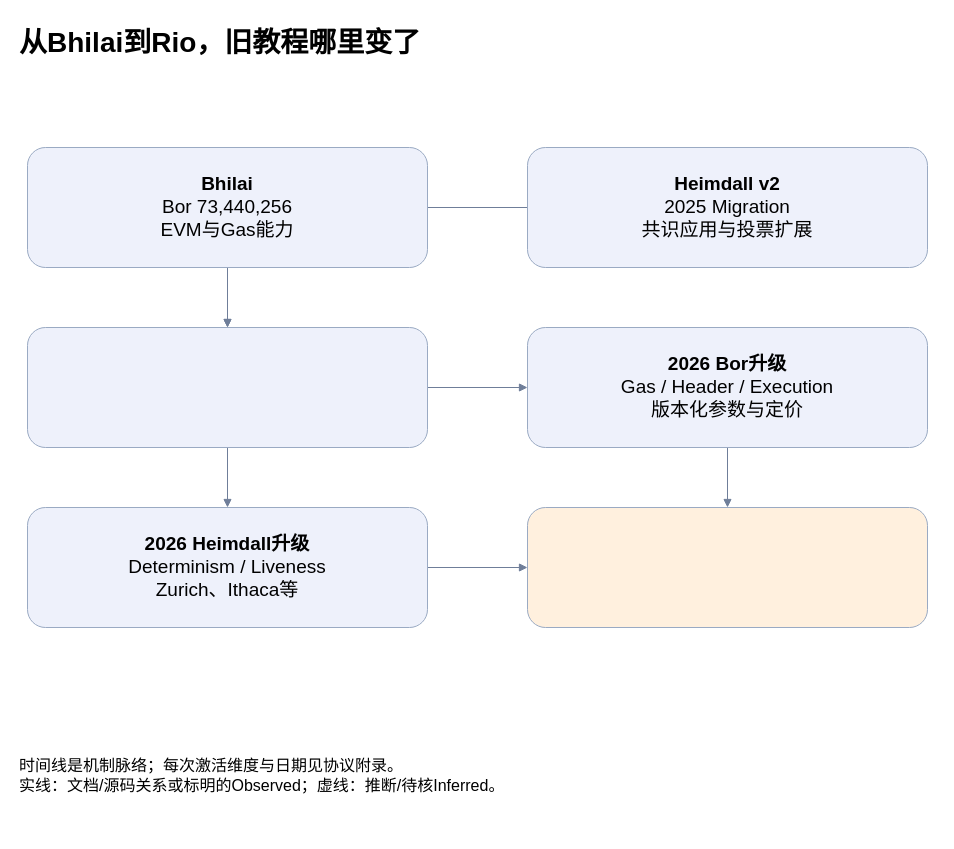
This 954x849 diagram has some shape labels left out. The box of each missing label's shape, as (x1, y1, x2, y2) in pixels:
Rio Bor 77,414,656 VEBloP生产组织: (26, 326, 428, 448)
统计观察 Measured Data TPS、容量、延迟分开: (526, 506, 928, 628)
